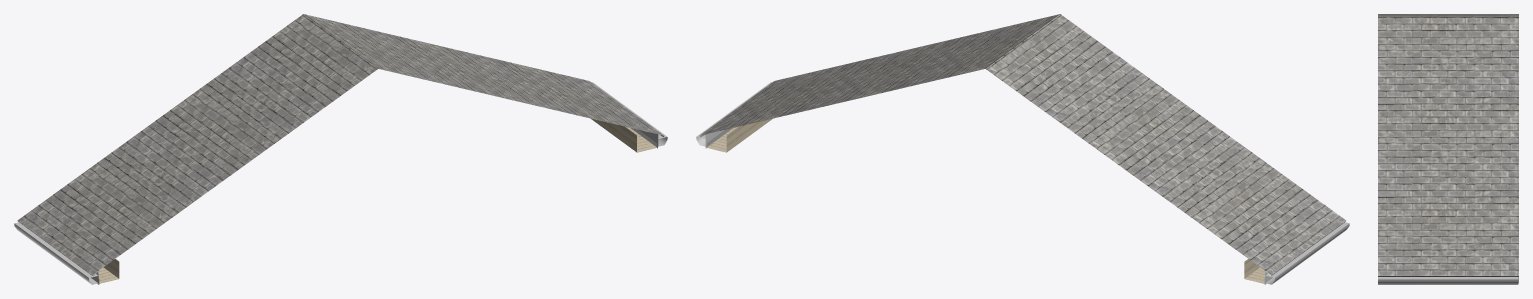
The model's file is RoofLow_8x.FBX.
The picture shows the model from 3 angles, left to right: view 1: azimuth 30°, elevation 25°; view 2: azimuth 150°, elevation 25°; view 3: azimuth 270°, elevation 25°; orthographic projection. The views are drawn at different scales.
Visible parts, largest first — view 1: RoofLow_8x; view 2: RoofLow_8x; view 3: RoofLow_8x.
Boxes of the visible parts, x1,y1,x2,y2 form: RoofLow_8x: [14, 14, 667, 284]; RoofLow_8x: [696, 14, 1349, 284]; RoofLow_8x: [1378, 14, 1518, 284].
Bounding box in the file's own units: 894 × 218 × 201.
